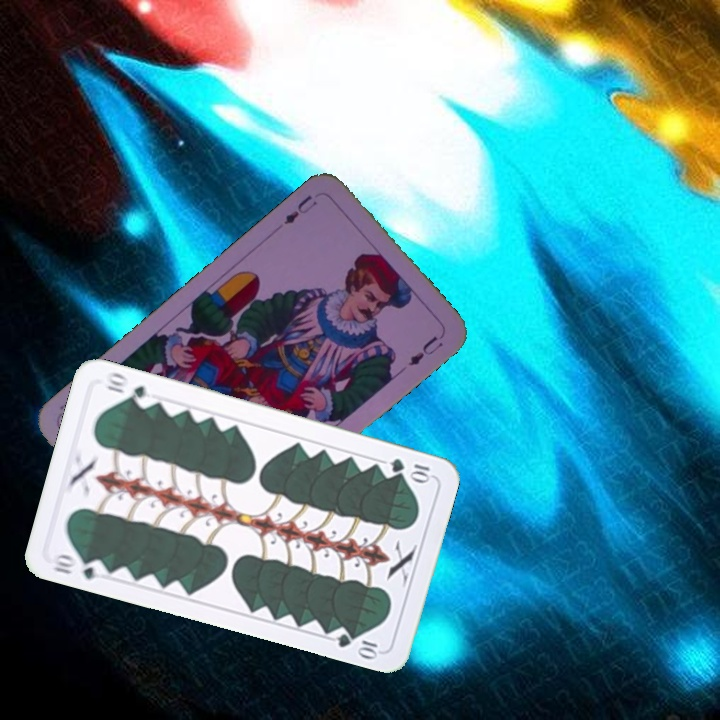EU: (279, 191, 320, 227)
G10: (48, 550, 108, 582), (386, 454, 434, 484)
